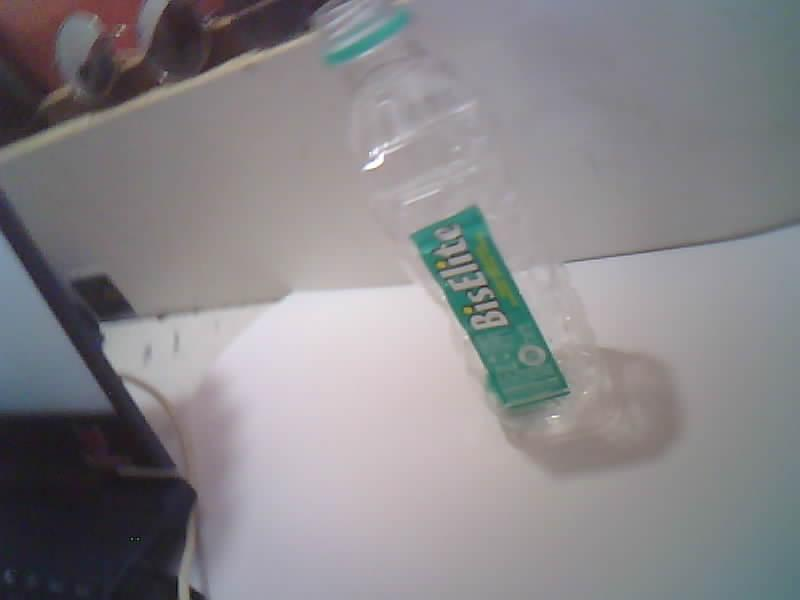non-biodegradable: (314, 0, 599, 431)
